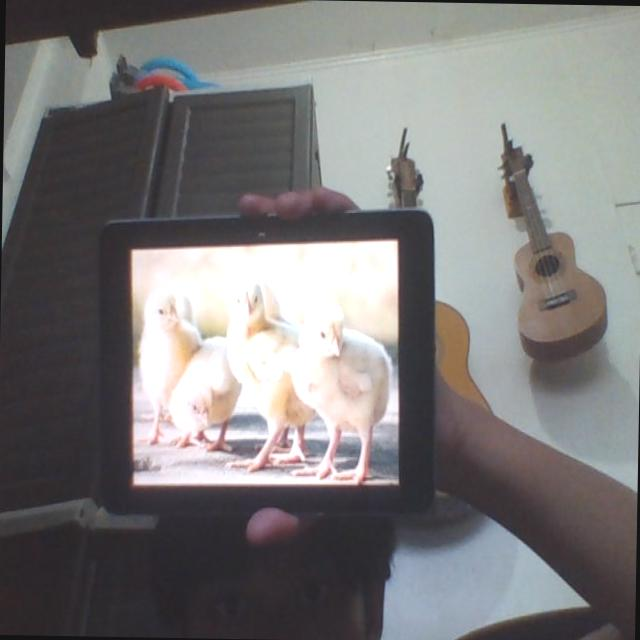Healthy: (294, 303, 386, 481), (225, 284, 308, 470), (139, 296, 196, 396)
Sick: (171, 334, 238, 460)
